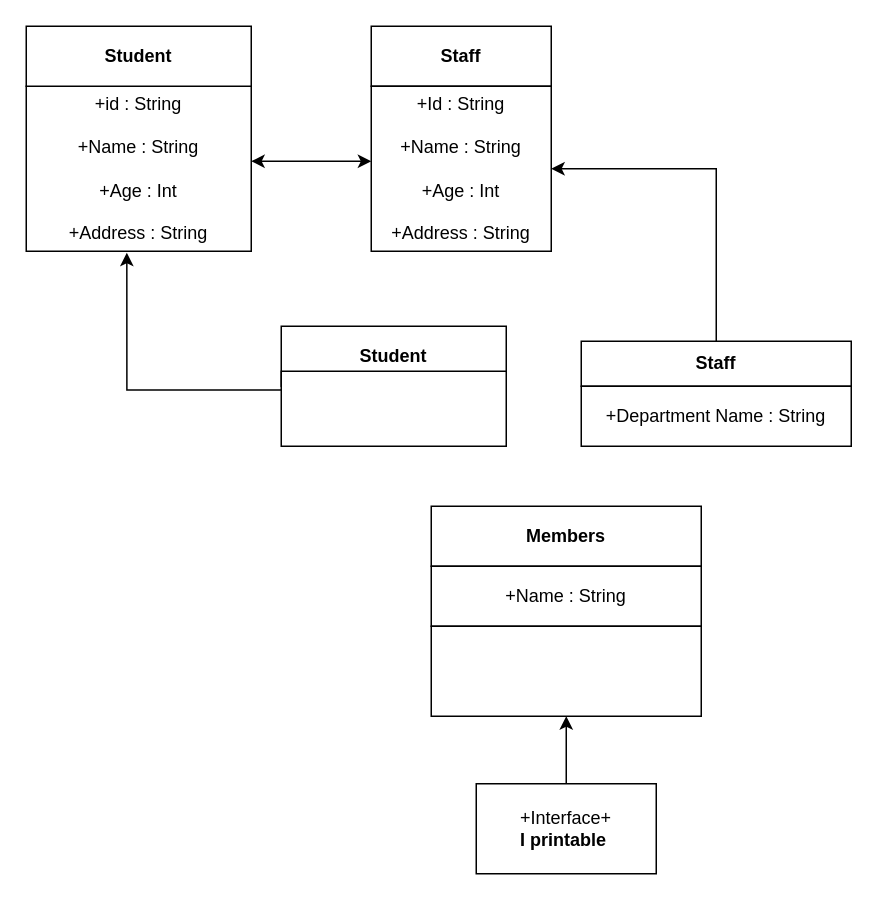
Some shapes in this 878 by 900 pixel diagram are drawn without their labels. The centre of each missing label's shape, as x and y in pixels:
"+ Course Enrolled" belongs at (393,408).
"+Print Member Name() : String" belongs at (565,670).
